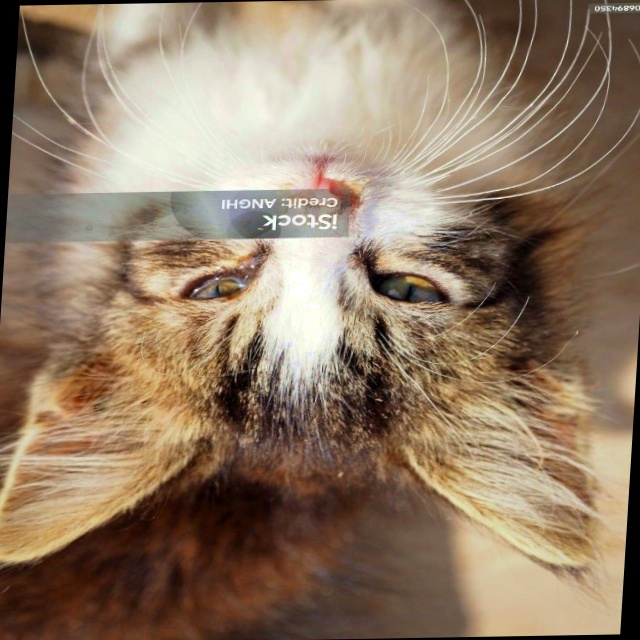eye_infection: (184, 262, 258, 300)
